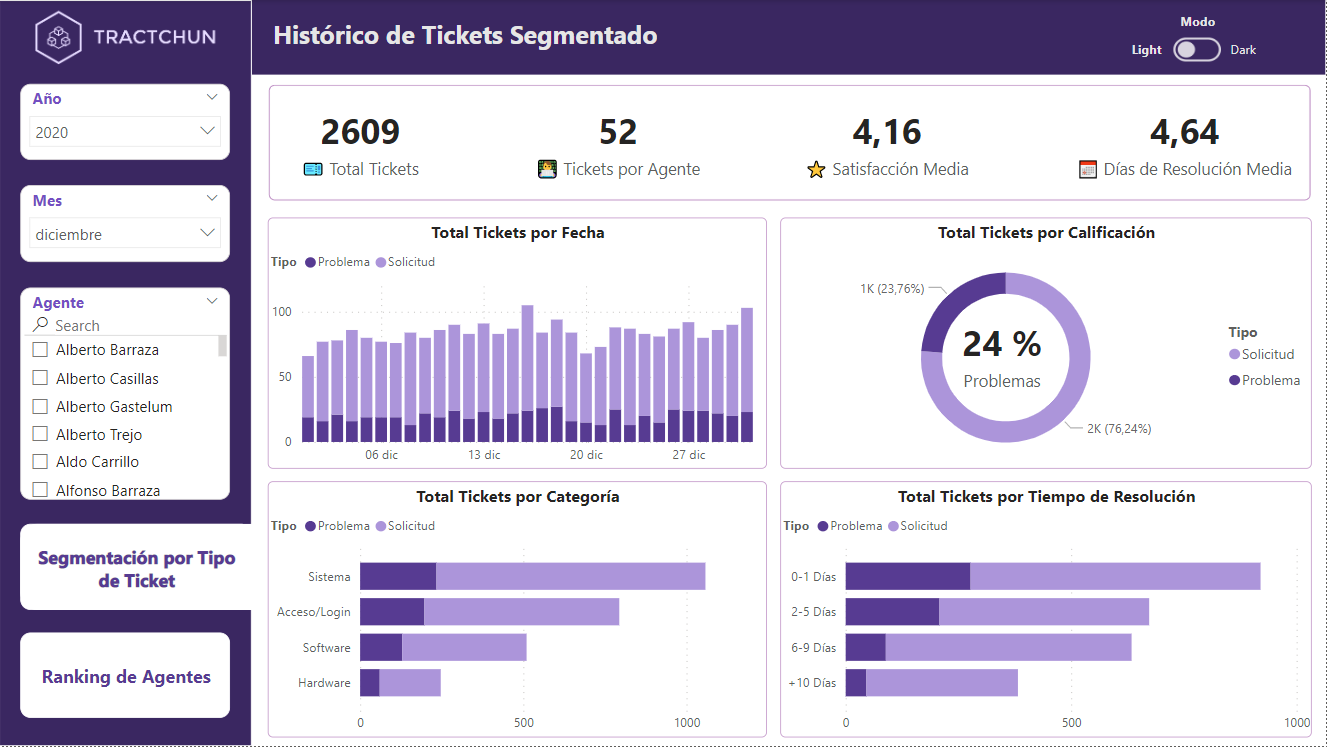

This screenshot's page, from the dashboard's own definition file:
{"tool":"powerbi","page":{"name":"Page 1","canvas":[1280,720],"ordinal":0},"visuals":[{"type":"shape","box":[243.6,0,1036,72.4],"z":0},{"type":"shape","box":[259.3,80.8,1007,113.4],"z":1000},{"type":"shape","box":[0,0,243.6,720],"z":2000},{"type":"card","fields":{"Values":["DAX Measure.Total Tickets"]},"box":[265.3,89.2,166.4,95.3],"z":3000},{"type":"slicer","fields":{"Values":["d_Calendario.Year"]},"box":[20.5,80.8,202.6,73.6],"z":4000},{"type":"card","fields":{"Values":["DAX Measure.Avg Satisfacción"]},"box":[769.4,89.2,174.9,95.3],"z":5000},{"type":"card","fields":{"Values":["DAX Measure.Tickets por Agente"]},"box":[504.1,89.2,186.9,95.3],"z":6000},{"type":"slicer","fields":{"Values":["d_Calendario.Mes"]},"box":[20.5,178.5,202.6,74.8],"z":7000},{"type":"image","box":[0,0,243.6,72.4],"z":8000},{"type":"slicer","fields":{"Values":["d_Agentes.Nombre"]},"box":[20.5,277.4,202.6,205],"z":9000},{"type":"textbox","box":[259.3,12.1,338.9,47],"z":10000},{"type":"card","fields":{"Values":["DAX Measure.Avg Resolución"]},"box":[1029.9,89.2,227.9,95.3],"z":11000},{"type":"areaChart","title":"Total Tickets por Fecha","fields":{"Y":["DAX Measure.Total Tickets"],"Category":["d_Calendario.Fecha"]},"box":[259.3,209.8,481.2,242.4],"z":12000},{"type":"donutChart","title":"Total Tickets por Calificación","fields":{"Y":["DAX Measure.Total Tickets"],"Category":["d_Satisfacción.Grupo"]},"box":[753.8,209.8,512.6,242.4],"z":13000},{"type":"barChart","title":"Total Tickets por Categoría","fields":{"Y":["DAX Measure.Total Tickets"],"Category":["f_Tickets.Categoría"]},"box":[259.3,464.3,481.2,247.2],"z":14000},{"type":"barChart","title":"Total Tickets por Tiempo de Resolución","fields":{"Y":["DAX Measure.Total Tickets"],"Category":["d_Resolución.Grupo"]},"box":[753.8,464.3,512.6,247.2],"z":15000},{"type":"card","fields":{"Values":["DAX Measure.% Positivos"]},"box":[885.2,303.9,101.3,76],"z":16000}]}

Visuals, with their boxes in screenshot pixels (x1, y1, x2, y2), scaled from the page's 1280x720 canvas onto the 1327x747 screenshot:
shape: 253:0:1326:75
shape: 269:84:1313:201
shape: 0:0:253:746
card - DAX Measure.Total Tickets: 275:93:448:191
slicer - d_Calendario.Year: 21:84:231:160
card - DAX Measure.Avg Satisfacción: 798:93:979:191
card - DAX Measure.Tickets por Agente: 523:93:716:191
slicer - d_Calendario.Mes: 21:185:231:263
image: 0:0:253:75
slicer - d_Agentes.Nombre: 21:288:231:500
textbox: 269:13:620:61
card - DAX Measure.Avg Resolución: 1068:93:1304:191
"Total Tickets por Fecha" areaChart: 269:218:768:469
"Total Tickets por Calificación" donutChart: 781:218:1313:469
"Total Tickets por Categoría" barChart: 269:482:768:738
"Total Tickets por Tiempo de Resolución" barChart: 781:482:1313:738
card - DAX Measure.% Positivos: 918:315:1023:394
